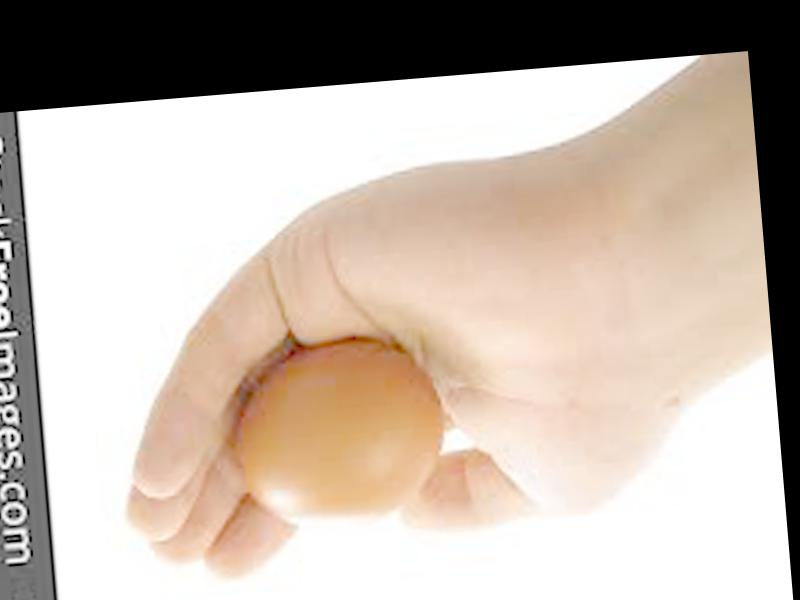Eggs: (214, 337, 452, 531)
